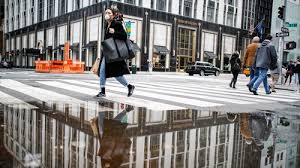mask: (100, 4, 118, 26)
